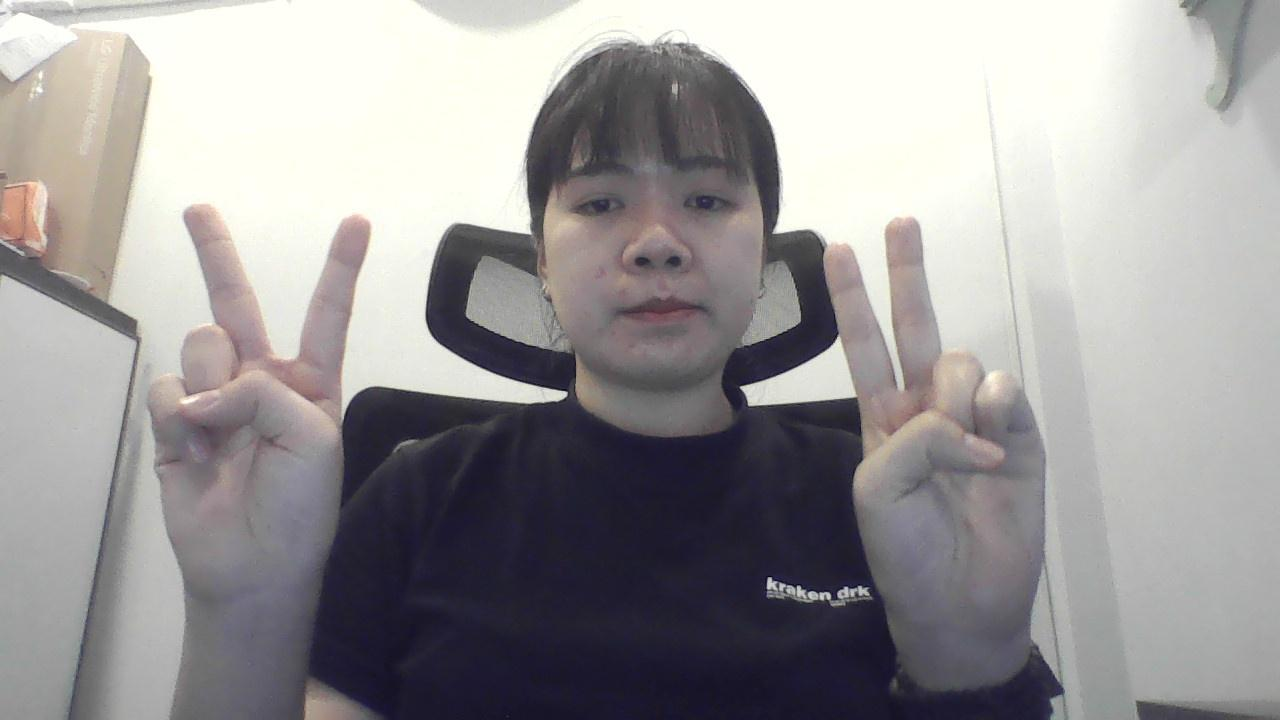V: (812, 194, 1074, 664), (115, 184, 376, 632)
